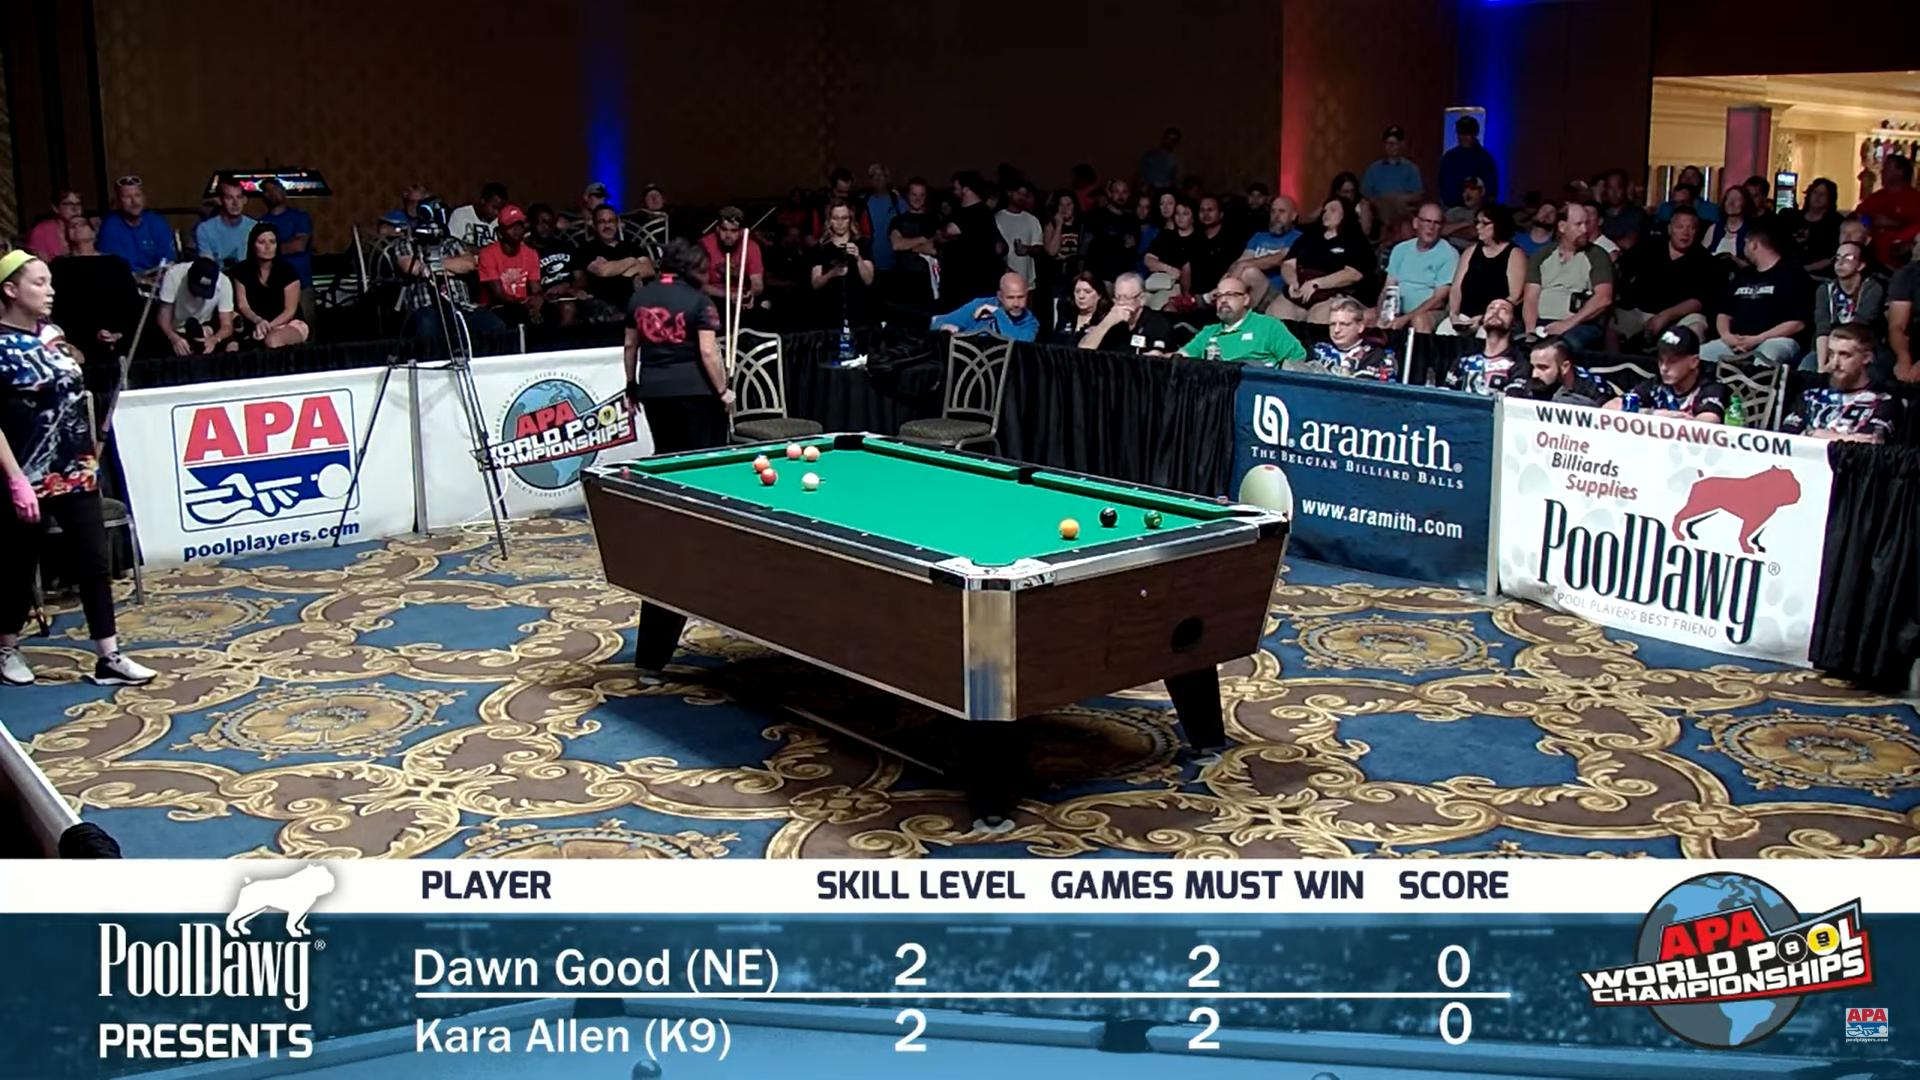Black: (1098, 508, 1117, 527)
Cue: (802, 472, 819, 489)
Dot: (911, 543, 926, 554), (857, 530, 872, 541), (638, 472, 653, 483), (670, 451, 684, 462), (935, 446, 949, 456), (1185, 493, 1200, 504), (1076, 473, 1089, 484), (1129, 483, 1142, 493), (1069, 546, 1083, 556), (807, 517, 822, 526), (716, 493, 731, 502), (727, 444, 741, 454), (782, 438, 796, 447), (978, 455, 993, 464), (1192, 522, 1207, 531), (676, 483, 690, 492), (894, 439, 907, 448), (1133, 534, 1146, 543)
Solid: (1059, 520, 1079, 539), (761, 468, 779, 487), (1145, 509, 1162, 529), (786, 443, 802, 459)
Striped: (803, 446, 819, 462), (754, 458, 771, 472)
